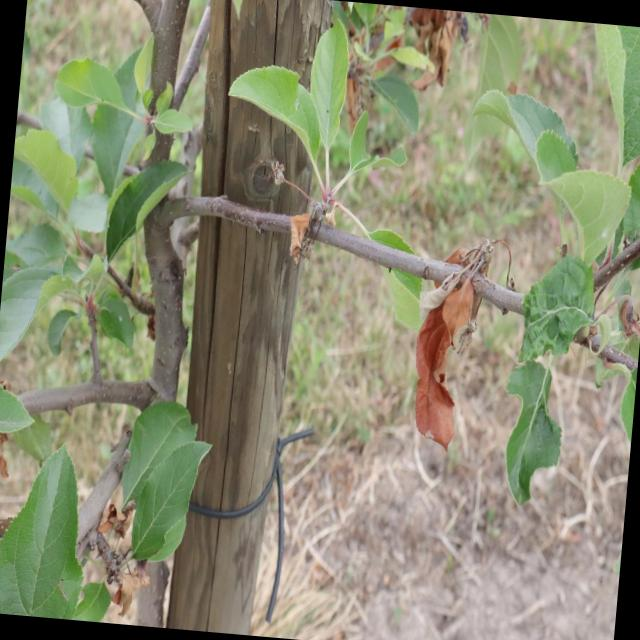-FireBlight-: (403, 233, 494, 465), (93, 473, 151, 612), (410, 11, 467, 98), (283, 207, 325, 264)
